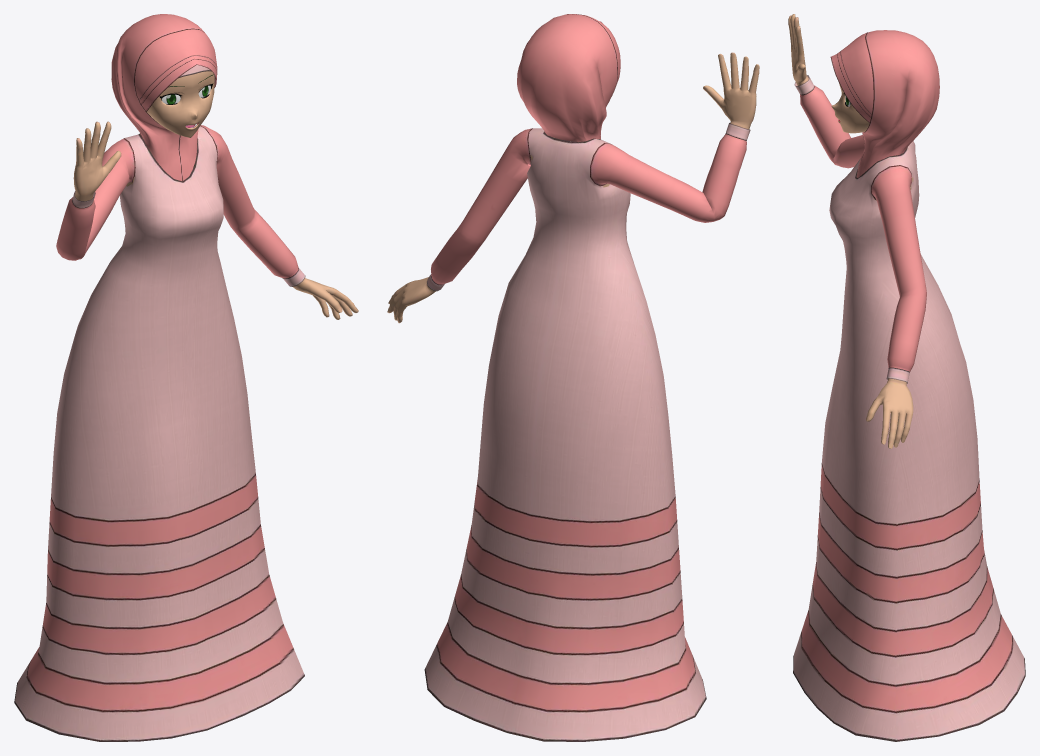
Rendered from melody-transformed.glb.
The picture shows the model from 3 angles, left to right: view 1: azimuth 30°, elevation 25°; view 2: azimuth 150°, elevation 25°; view 3: azimuth 270°, elevation 25°; orthographic projection. The views are drawn at different scales.
Visible parts, largest first — view 1: Object_3, Object_5, Object_2; view 2: Object_3, Object_5, Object_2; view 3: Object_3, Object_5, Object_2.
Part boxes in pixels (box(x1,y1,x2,y2)): Object_3: box(14, 125, 305, 741); Object_5: box(111, 14, 217, 181); Object_2: box(73, 71, 358, 319); Object_3: box(424, 123, 750, 741); Object_5: box(517, 14, 620, 142); Object_2: box(387, 52, 759, 323); Object_3: box(793, 75, 1025, 741); Object_5: box(830, 30, 939, 177); Object_2: box(788, 14, 913, 448).
Size of the model in its own units: 0.8076 by 1.58 by 0.5264.
5 materials, 5 textured.
